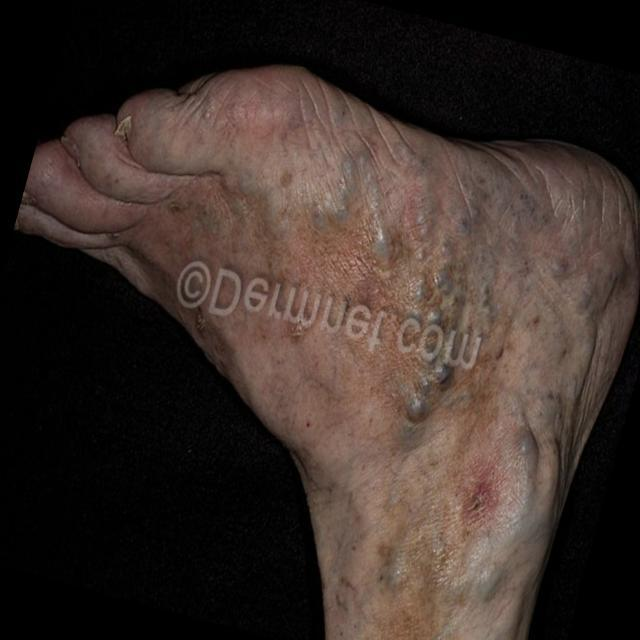Eczema: (270, 144, 575, 596)
